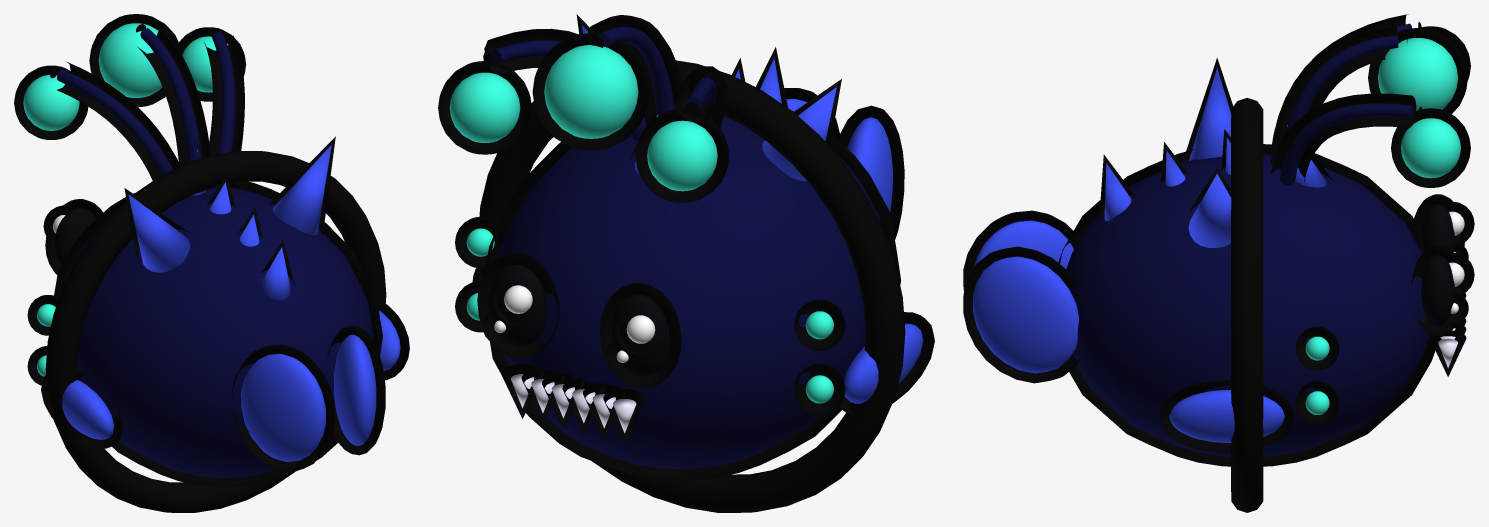
Rendered from Lantern_3.glb.
The picture shows the model from 3 angles, left to right: view 1: azimuth 30°, elevation 25°; view 2: azimuth 150°, elevation 25°; view 3: azimuth 270°, elevation 25°; orthographic projection. The views are drawn at different scales.
Visible parts, largest first — view 1: Lantern_3.001; view 2: Lantern_3.001; view 3: Lantern_3.001.
Part boxes in pixels (x1,y1,x2,y2): Lantern_3.001: (14, 14, 409, 512); Lantern_3.001: (438, 14, 934, 512); Lantern_3.001: (963, 14, 1474, 512).
Bounding box in the file's own units: 3.65 × 4.52 × 4.49.
1 material, 1 textured.
